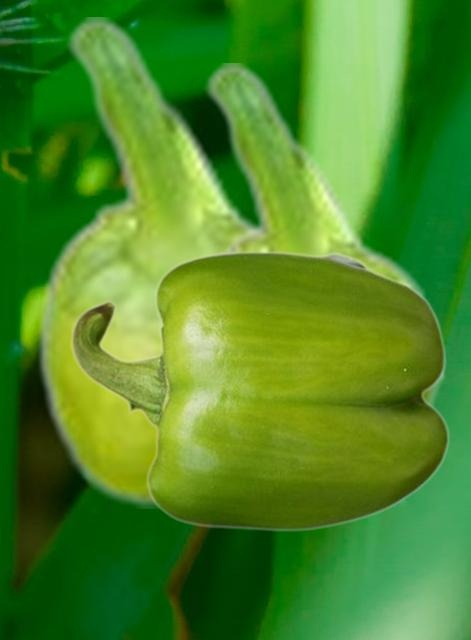bell_pepper: (35, 17, 256, 507), (70, 250, 449, 531), (194, 63, 446, 408)
